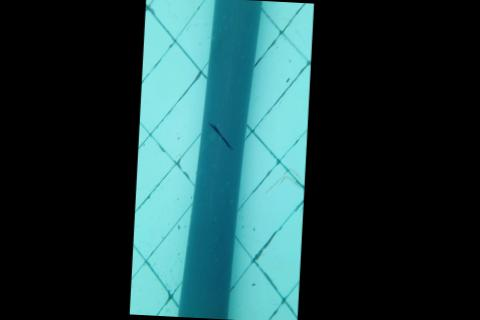keretakan: (206, 119, 236, 152)
